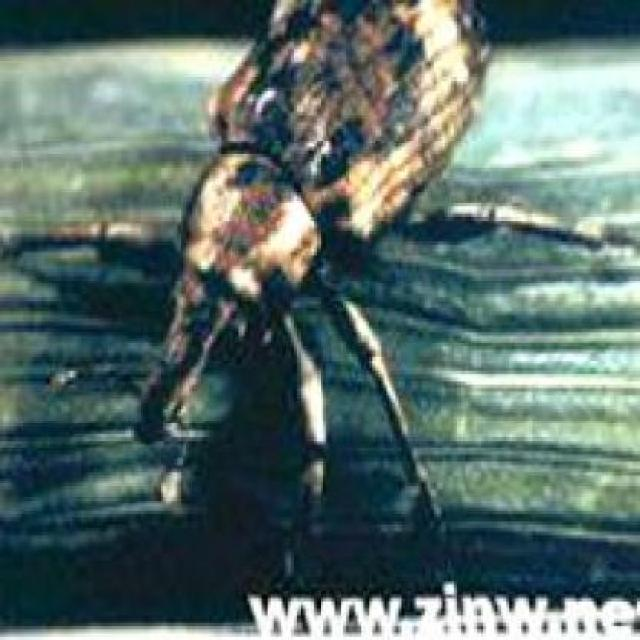rice-bug: (135, 0, 507, 502)
